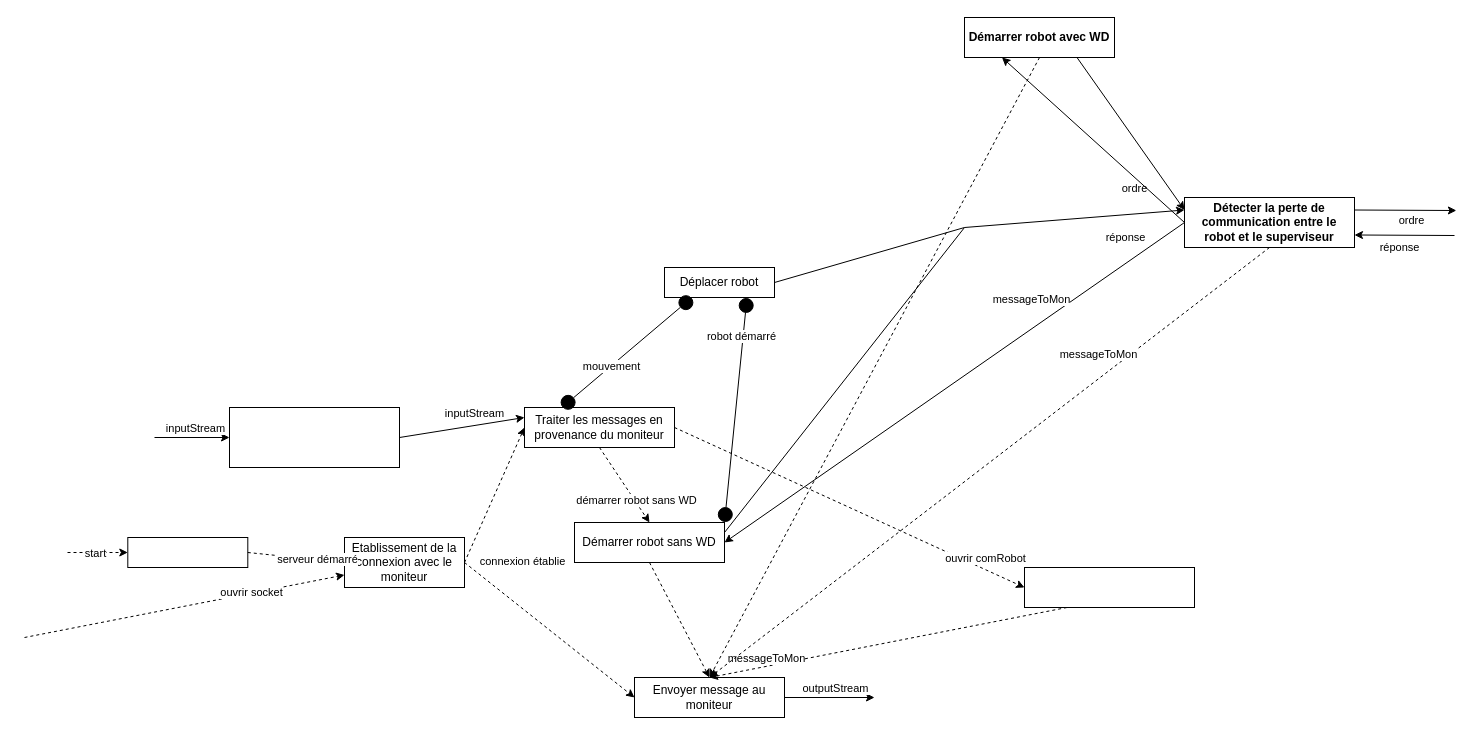
Image size: 1482x735. Some labels were removed from this diagram. The centre of each missing label's shape, as x and y in pixels:
Démarrer serveur: point (187, 552)
Détecter la perte de communication avec le moniteur: point (314, 437)
Mettre en place la communication avec le robot: point (1109, 587)
